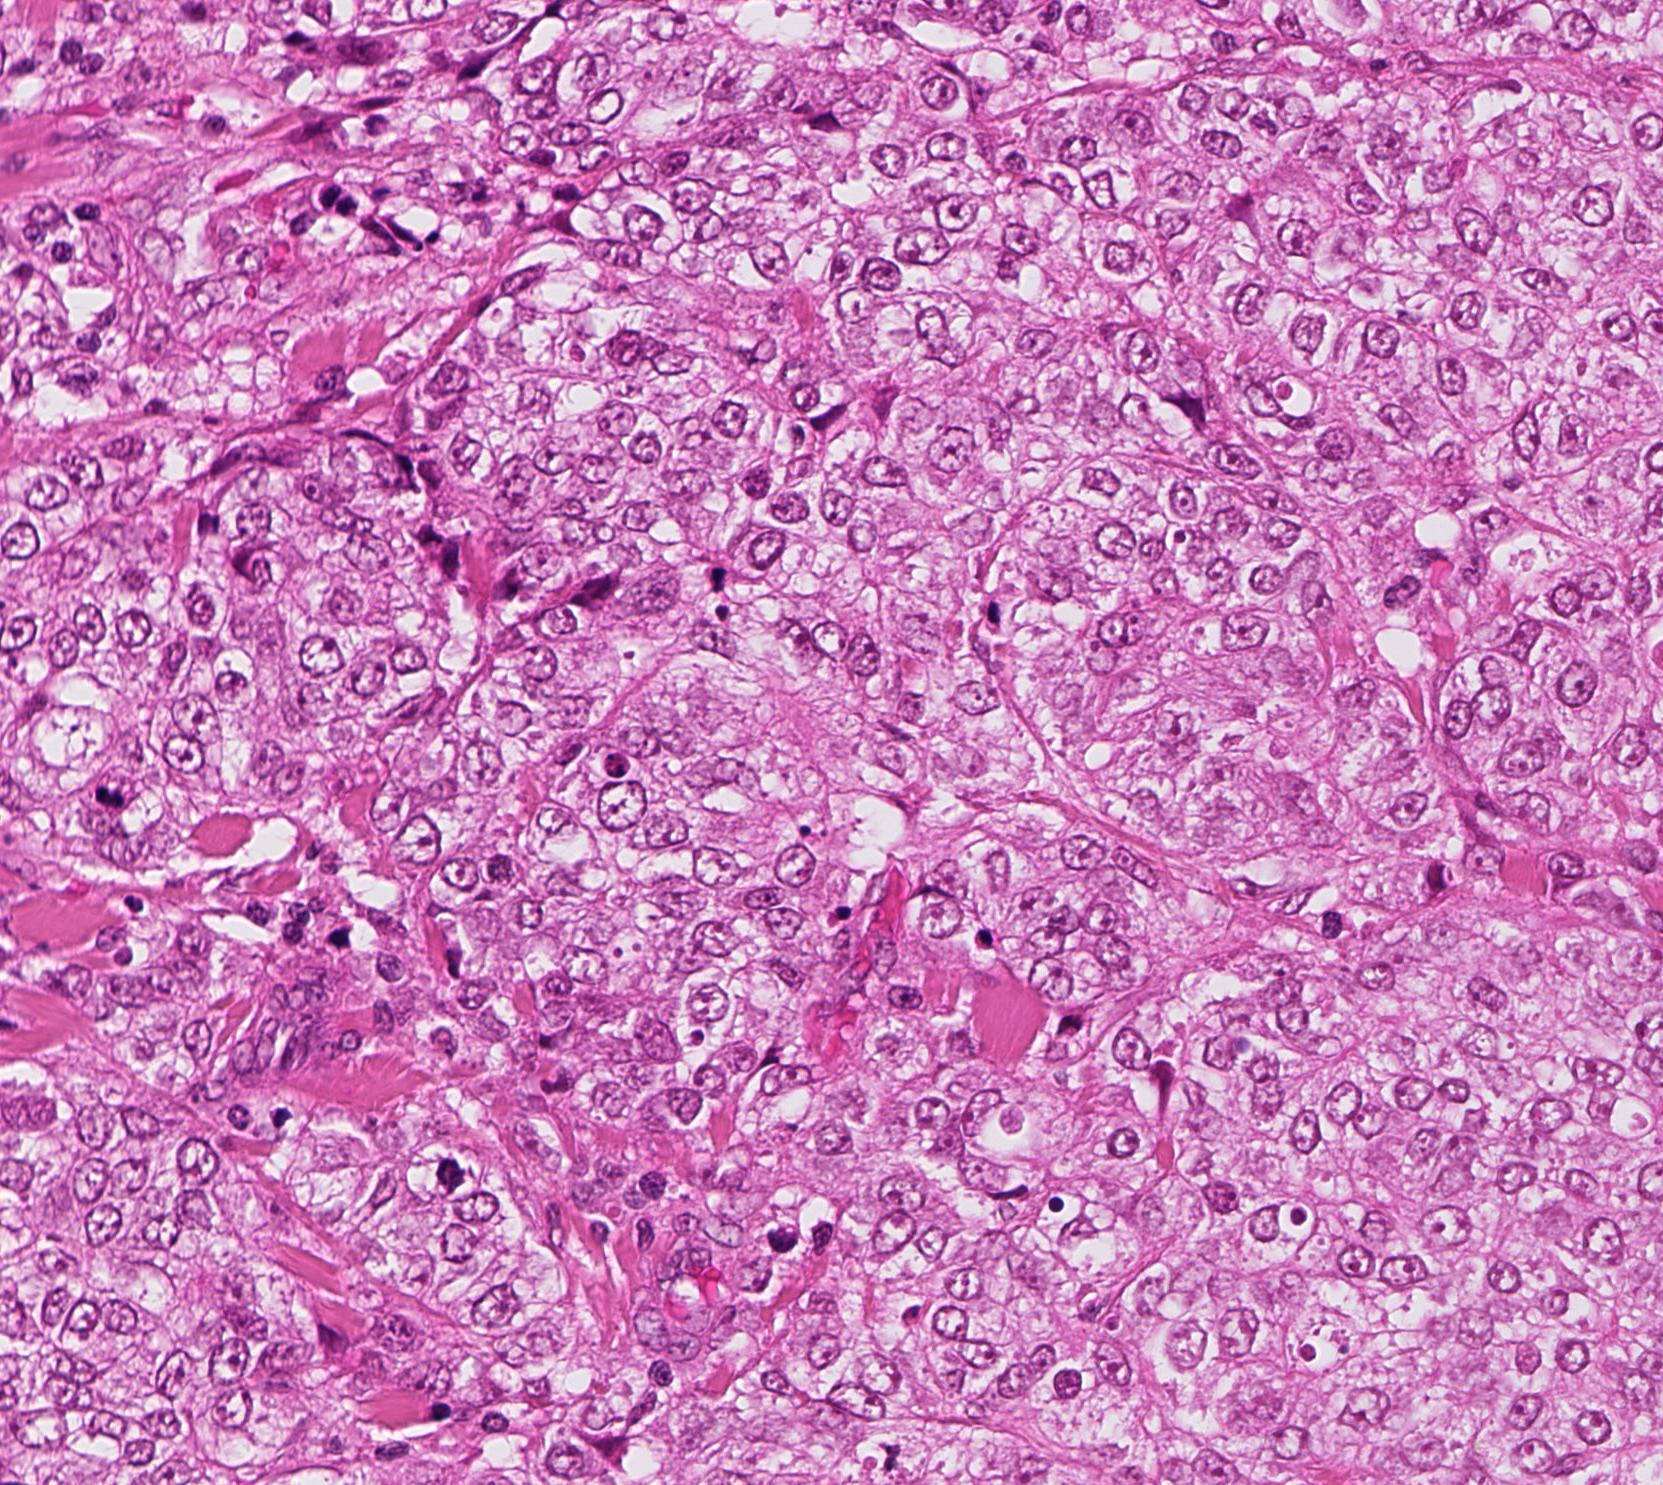mitosis: (87, 774, 148, 834)
